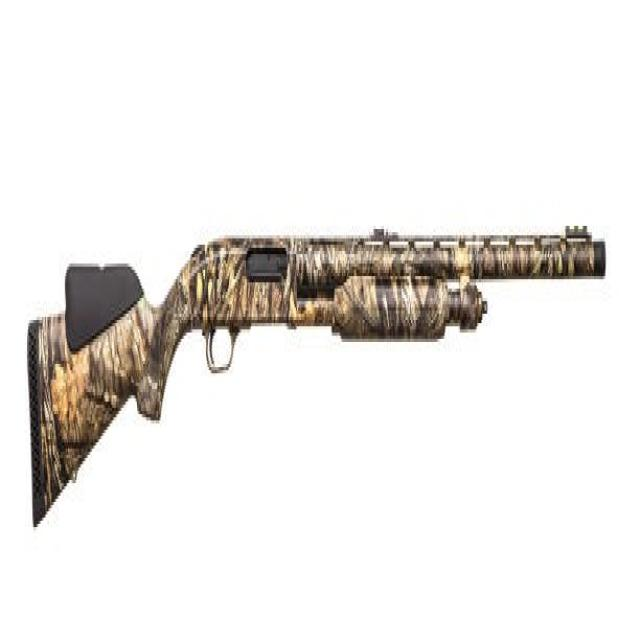rifle: (26, 216, 608, 543)
